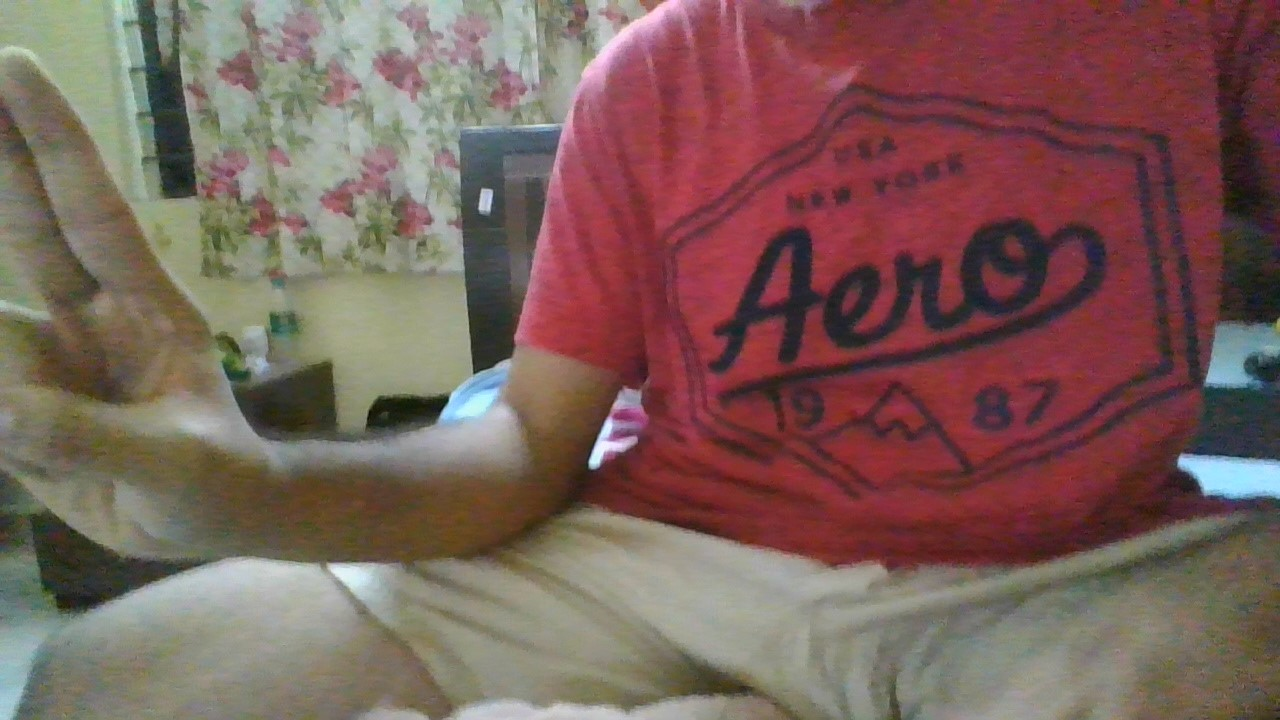u: (1, 47, 265, 566)
